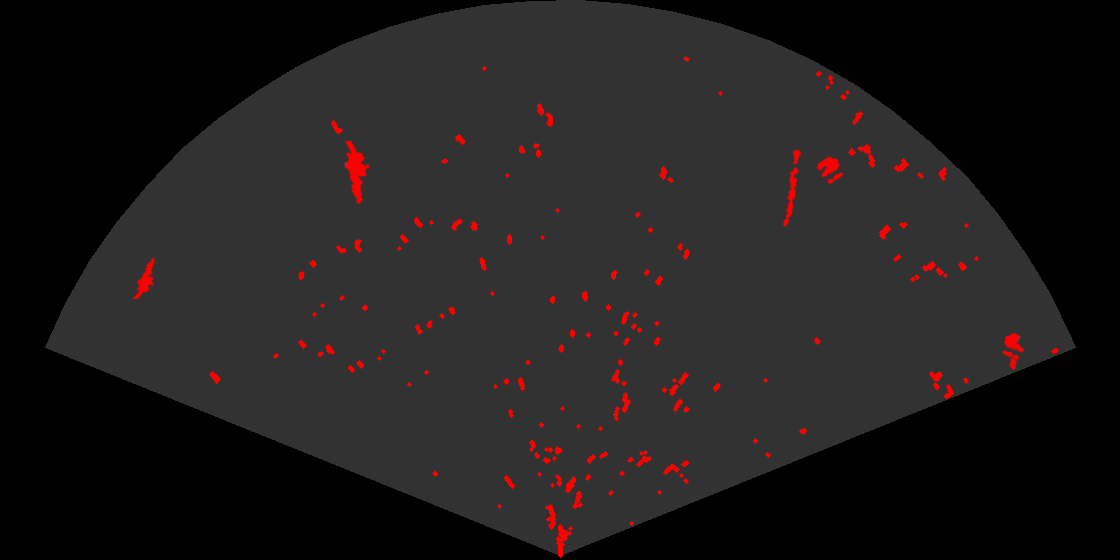ball: (815, 155, 845, 186), (1001, 331, 1026, 362)
chain: (781, 147, 803, 229)
frogman: (343, 141, 371, 206), (131, 255, 159, 299)
